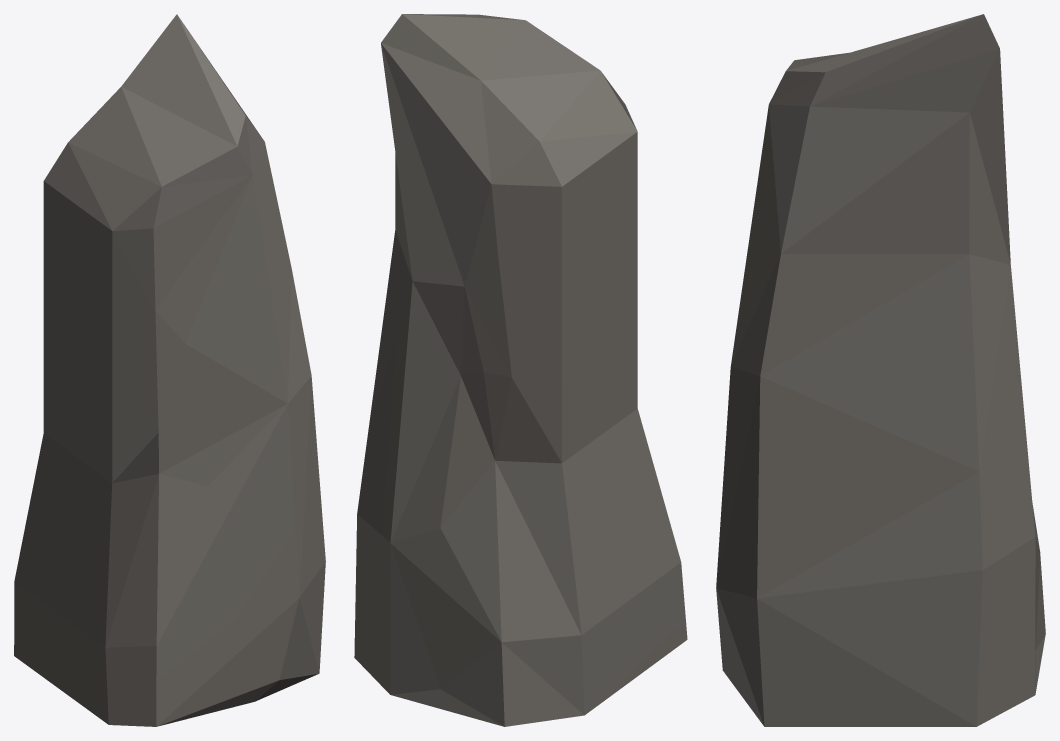
The model's file is SM_Env_RockPile_Pillar_02.glb.
3 renders of one model, left to right at view 1: azimuth 30°, elevation 25°; view 2: azimuth 150°, elevation 25°; view 3: azimuth 270°, elevation 25°, orthographic. The views are drawn at different scales.
Visible parts, largest first — view 1: SM_Env_RockPile_Pillar_02; view 2: SM_Env_RockPile_Pillar_02; view 3: SM_Env_RockPile_Pillar_02.
Boxes of the visible parts, x1,y1,x2,y2 form: SM_Env_RockPile_Pillar_02: (14,14,325,726); SM_Env_RockPile_Pillar_02: (354,14,687,726); SM_Env_RockPile_Pillar_02: (716,14,1045,726).
Bounding box in the file's own units: 0.009 × 0.0241 × 0.0105.
1 material, 1 textured.
